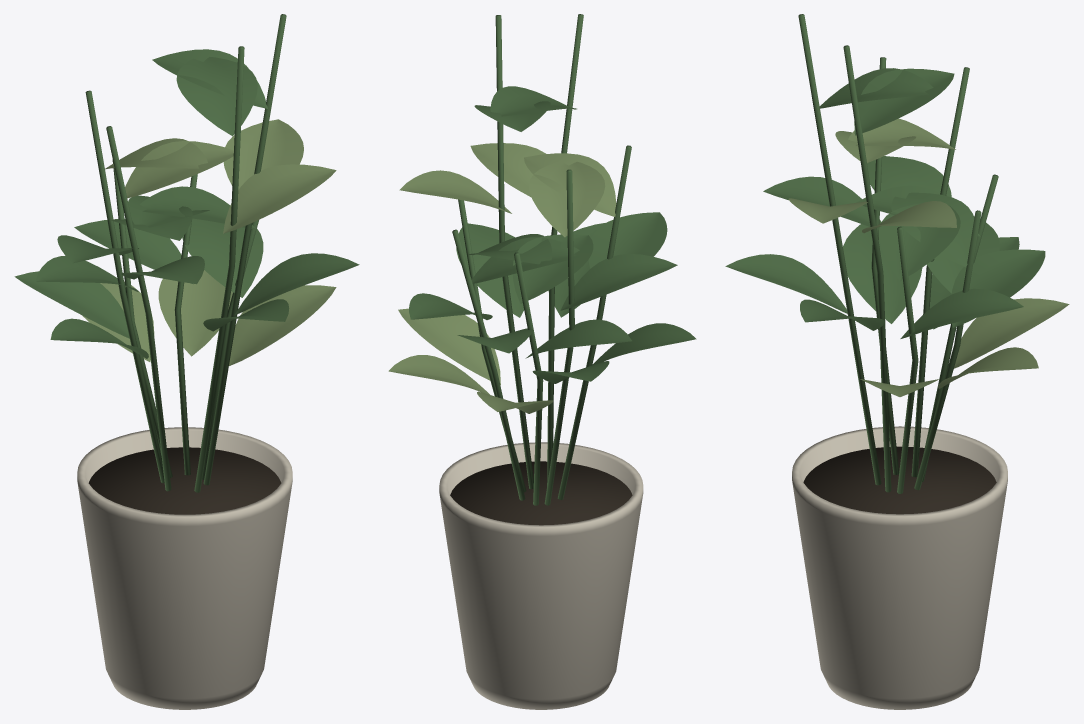
File: scandinavian.plant.gltf
3 views of the same model, side by side, from view 1: azimuth 30°, elevation 25°; view 2: azimuth 150°, elevation 25°; view 3: azimuth 270°, elevation 25° (orthographic). The views are drawn at different scales.
Parts seen in each view (by area): view 1: scandinavian.plant.pot; view 2: scandinavian.plant.pot; view 3: scandinavian.plant.pot.
Part boxes in pixels (left/top/right/bottom): scandinavian.plant.pot: left=14, top=14, right=359, bottom=709; scandinavian.plant.pot: left=388, top=14, right=696, bottom=709; scandinavian.plant.pot: left=725, top=14, right=1069, bottom=709.
Size of the model in its own units: 0.3406 by 0.7205 by 0.3369.
